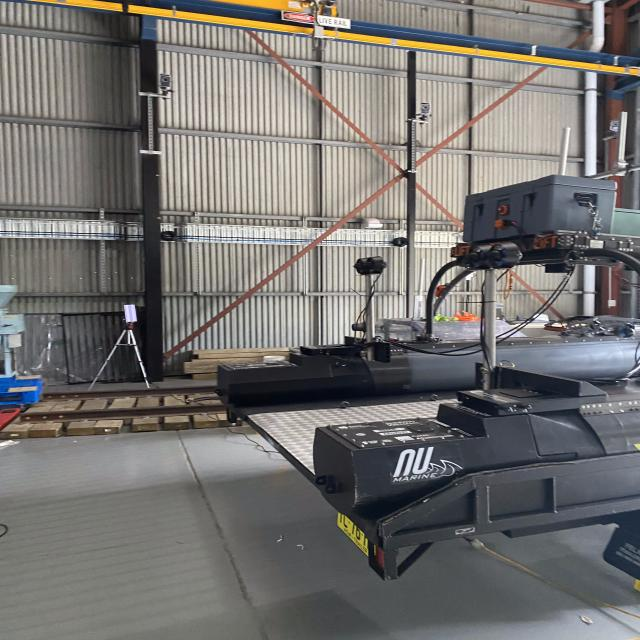matrix: (122, 303, 141, 324)
